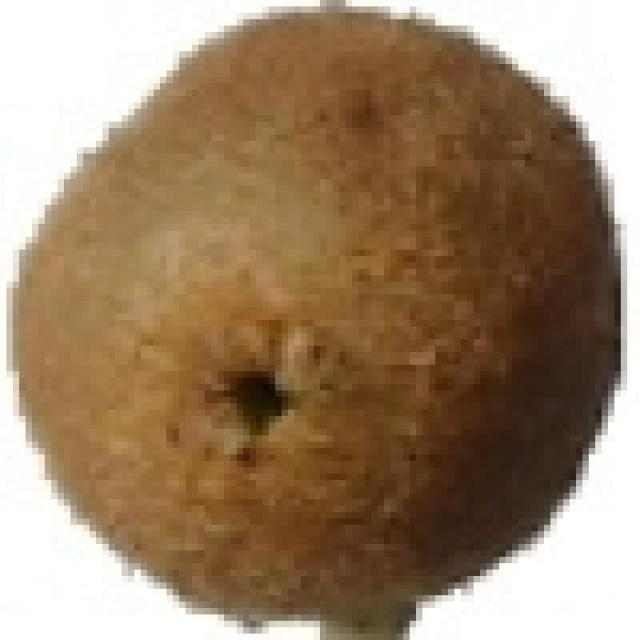kiwi: (13, 10, 617, 636)
